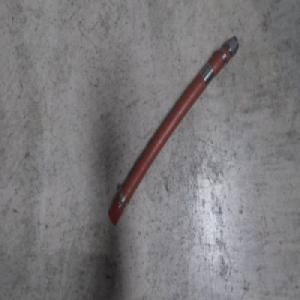Hose: (106, 31, 240, 226)
